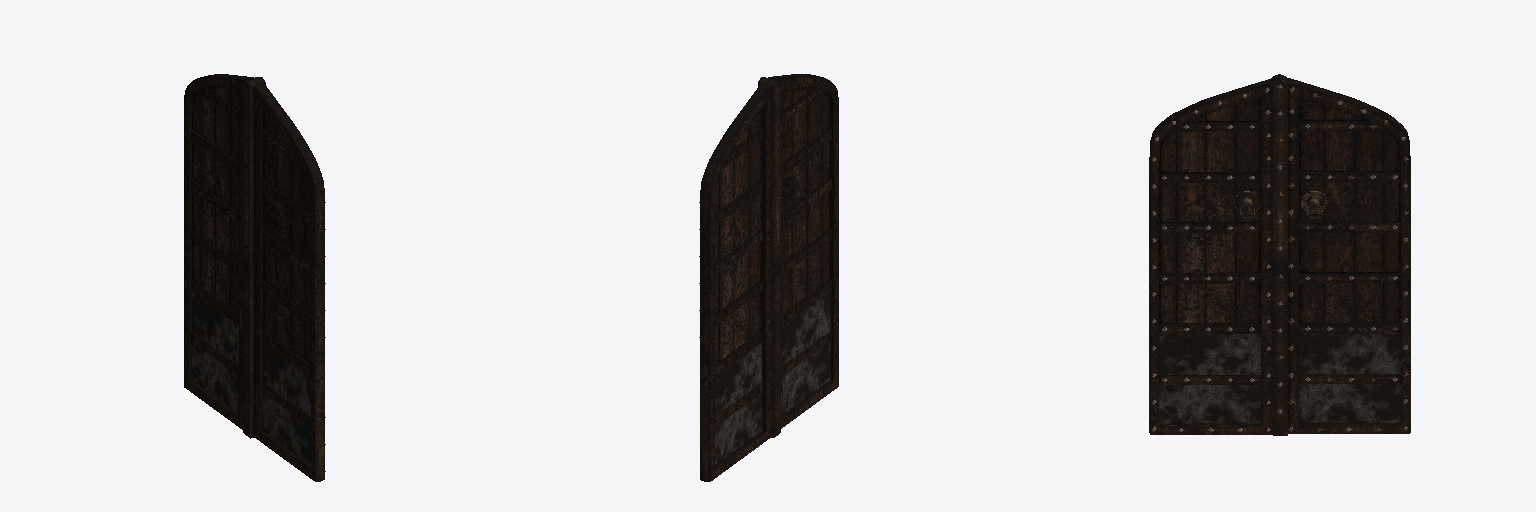
The picture shows the model from 3 angles: view 1: azimuth 30°, elevation 25°; view 2: azimuth 150°, elevation 25°; view 3: azimuth 270°, elevation 25°; orthographic projection.
Visible parts, largest first — view 1: Door_01_L_Mesh, Door_01_R_Mesh; view 2: Door_01_R_Mesh, Door_01_L_Mesh; view 3: Door_01_R_Mesh, Door_01_L_Mesh.
Boxes of the visible parts, x1=… form: Door_01_L_Mesh: x1=243, y1=79, x2=325, y2=481; Door_01_R_Mesh: x1=184, y1=74, x2=265, y2=429; Door_01_R_Mesh: x1=699, y1=77, x2=771, y2=481; Door_01_L_Mesh: x1=767, y1=74, x2=838, y2=437; Door_01_R_Mesh: x1=1273, y1=78, x2=1410, y2=435; Door_01_L_Mesh: x1=1149, y1=74, x2=1286, y2=434.
Size of the model in its own units: 12.59 by 221 by 147.
1 materials, 1 textured.